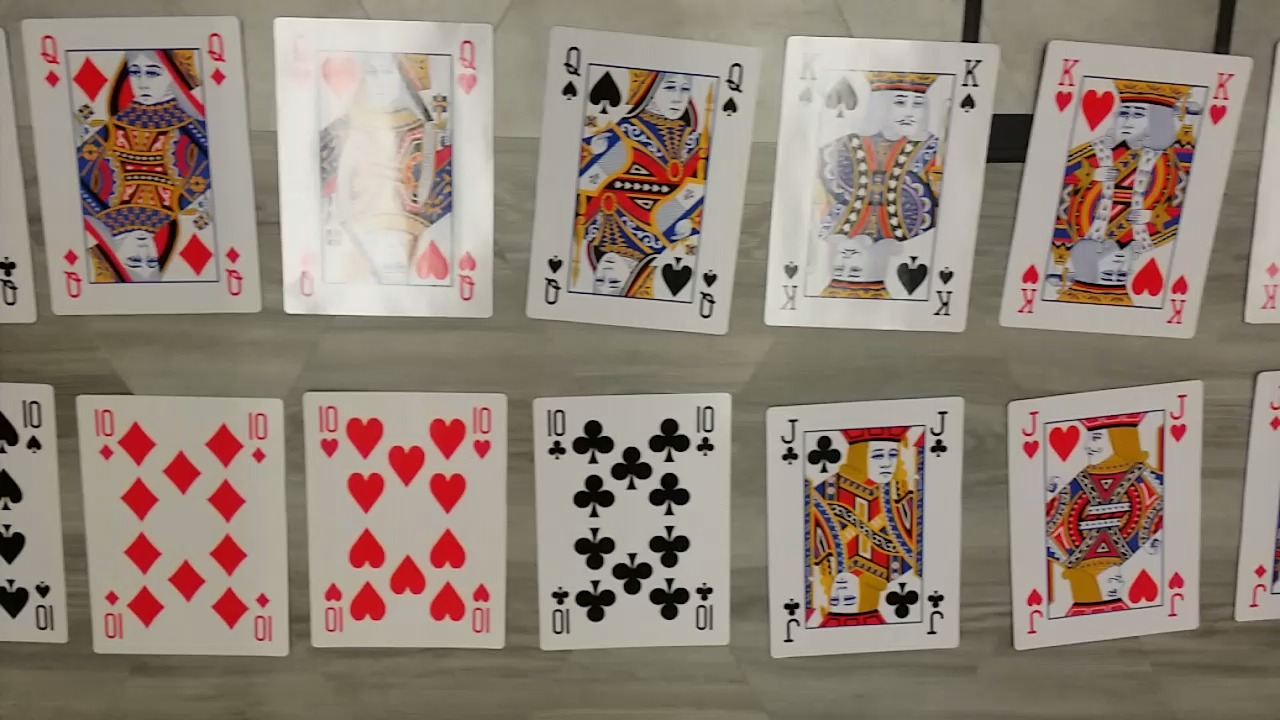10_club: (532, 389, 733, 649)
10_diamond: (71, 391, 289, 658)
10_heart: (300, 388, 509, 654)
jack_club: (767, 393, 961, 660)
jack_heart: (1010, 376, 1207, 656)
king_heart: (999, 40, 1258, 339)
king_spade: (762, 33, 1002, 333)
queen_diamond: (26, 16, 263, 315)
queen_heart: (272, 13, 495, 318)
queen_spade: (520, 26, 757, 342)
